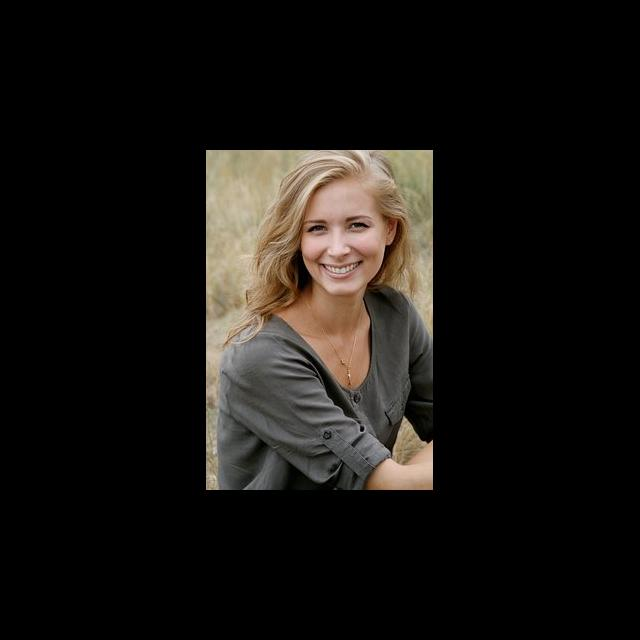female: (225, 150, 423, 316)
